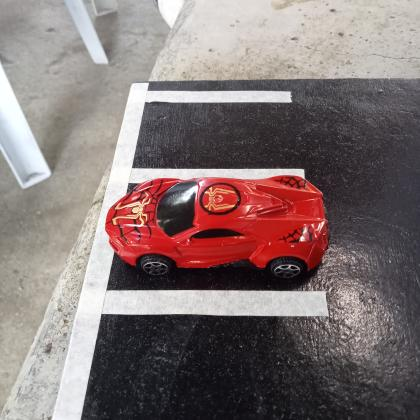Car: (105, 174, 330, 276)
